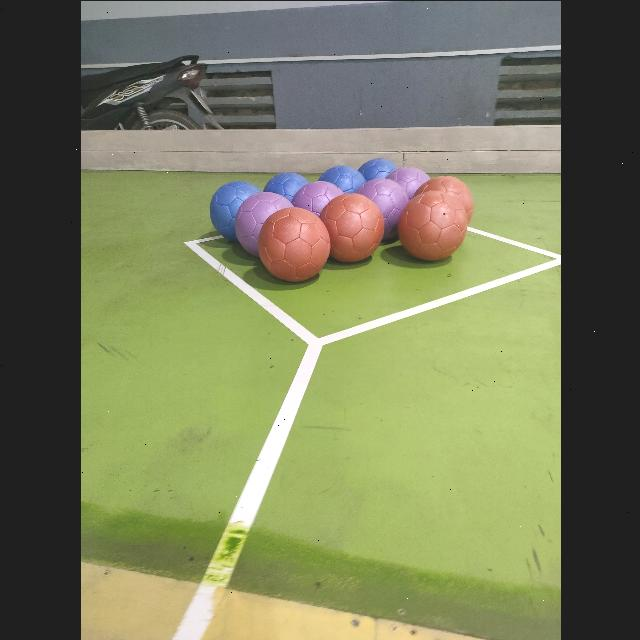B: (209, 180, 259, 240), (263, 171, 307, 201), (318, 164, 364, 192)
P: (234, 192, 292, 254), (358, 177, 408, 236), (291, 180, 341, 214)
R: (259, 207, 329, 280), (398, 191, 467, 259), (319, 192, 383, 260)
